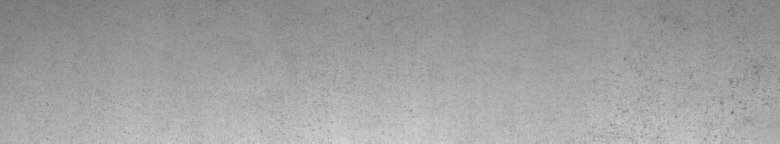ib: (604, 16, 776, 130)
